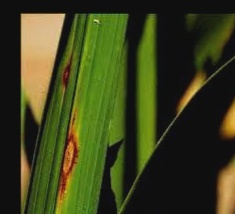Brown_Spot: (51, 114, 80, 201), (59, 48, 72, 89)
